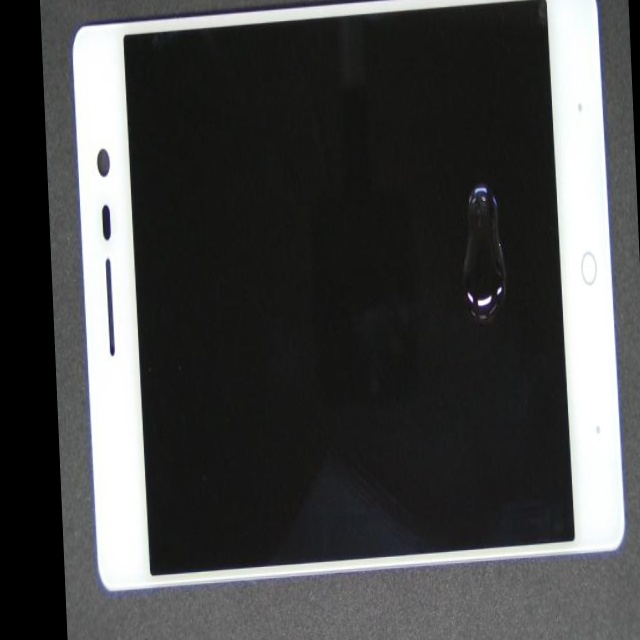oil: (262, 0, 640, 395)
